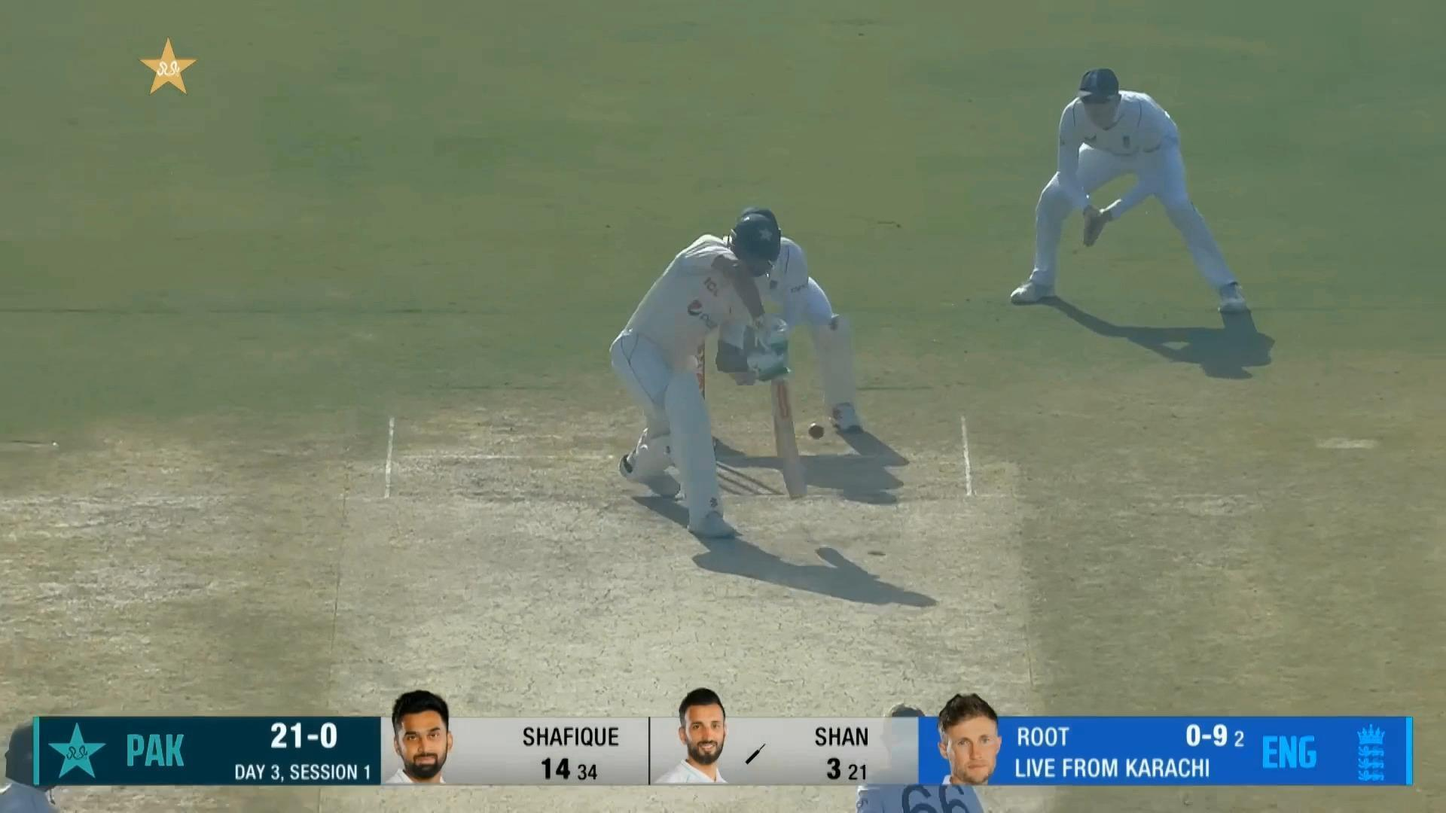BM 1: (609, 213, 810, 539)
BO: (853, 703, 986, 813)
